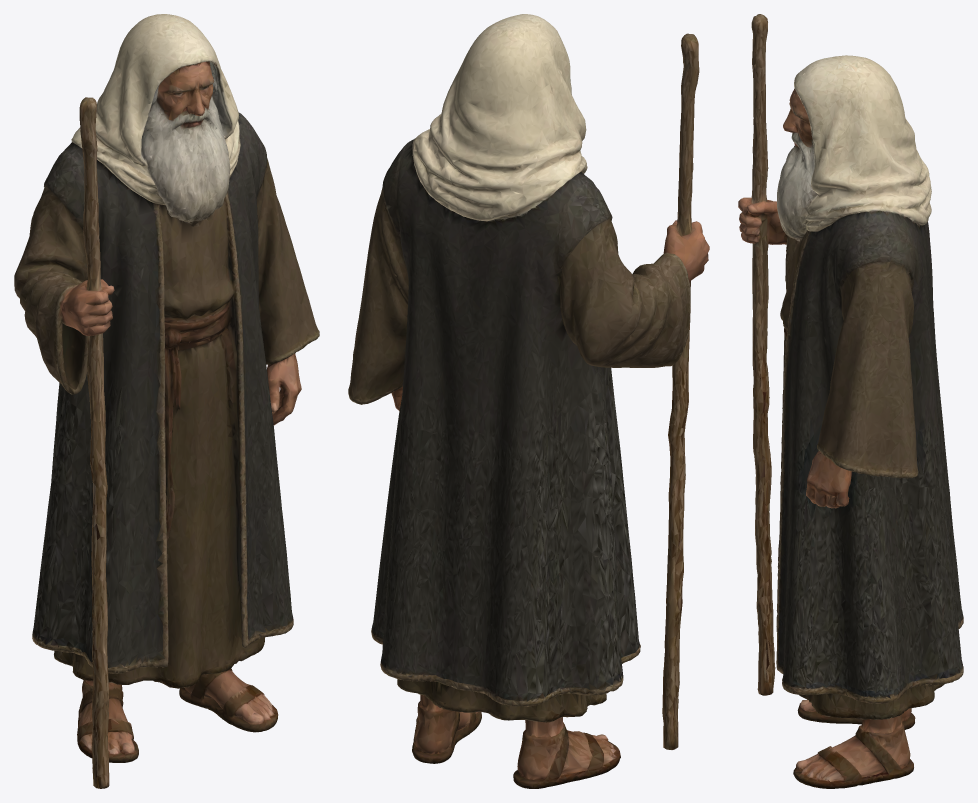
The model's file is mose.glb.
The picture shows the model from 3 angles, left to right: view 1: azimuth 30°, elevation 25°; view 2: azimuth 150°, elevation 25°; view 3: azimuth 270°, elevation 25°; orthographic projection. The views are drawn at different scales.
Visible parts, largest first — view 1: geometry_0; view 2: geometry_0; view 3: geometry_0.
Boxes of the visible parts, left/top/right/bottom form: geometry_0: left=14, top=14, right=319, bottom=788; geometry_0: left=348, top=14, right=709, bottom=788; geometry_0: left=738, top=14, right=963, bottom=788.
Bounding box in the file's own units: 0.4318 × 0.9784 × 0.2923.
1 material, 1 textured.
